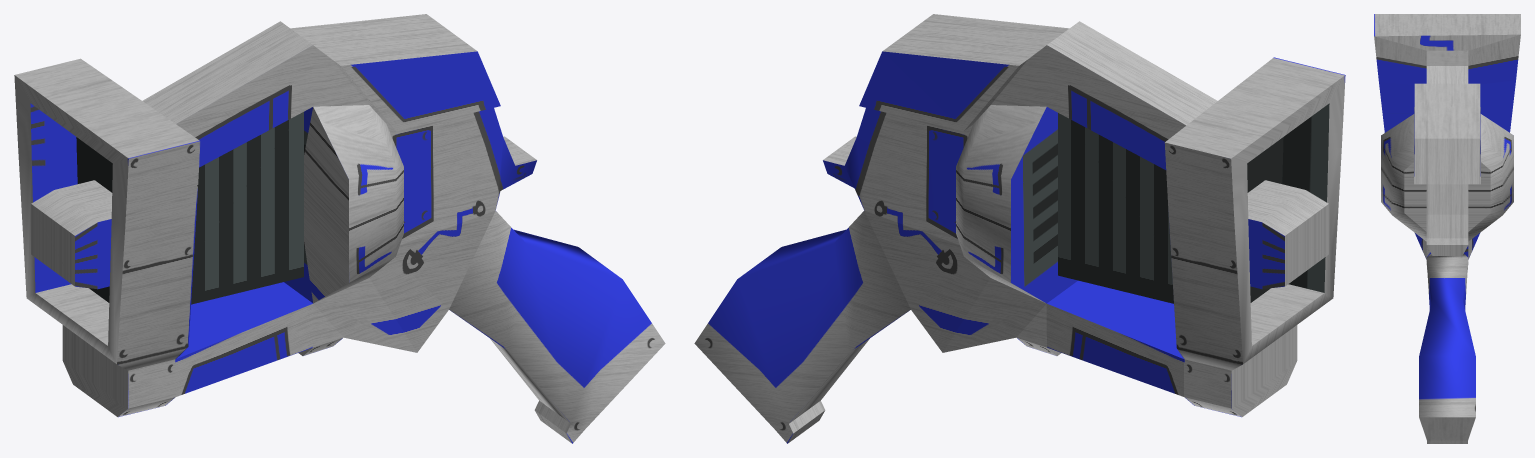
Rendered from enemyGun.fbx.
The picture shows the model from 3 angles, left to right: view 1: azimuth 30°, elevation 25°; view 2: azimuth 150°, elevation 25°; view 3: azimuth 270°, elevation 25°; orthographic projection. The views are drawn at different scales.
Parts seen in each view (by area): view 1: enemy_Gun, eGun_chamber; view 2: enemy_Gun, eGun_charge; view 3: enemy_Gun.
Part boxes in pixels (x1,y1,x2,y2): enemy_Gun: (14,14,665,443); eGun_chamber: (191,112,303,304); enemy_Gun: (694,14,1345,443); eGun_charge: (1058,113,1173,303); enemy_Gun: (1374,14,1520,443).
Size of the model in its own units: 0.0254 by 0.019 by 0.00853.
Materials: 1 (1 with a texture image).
